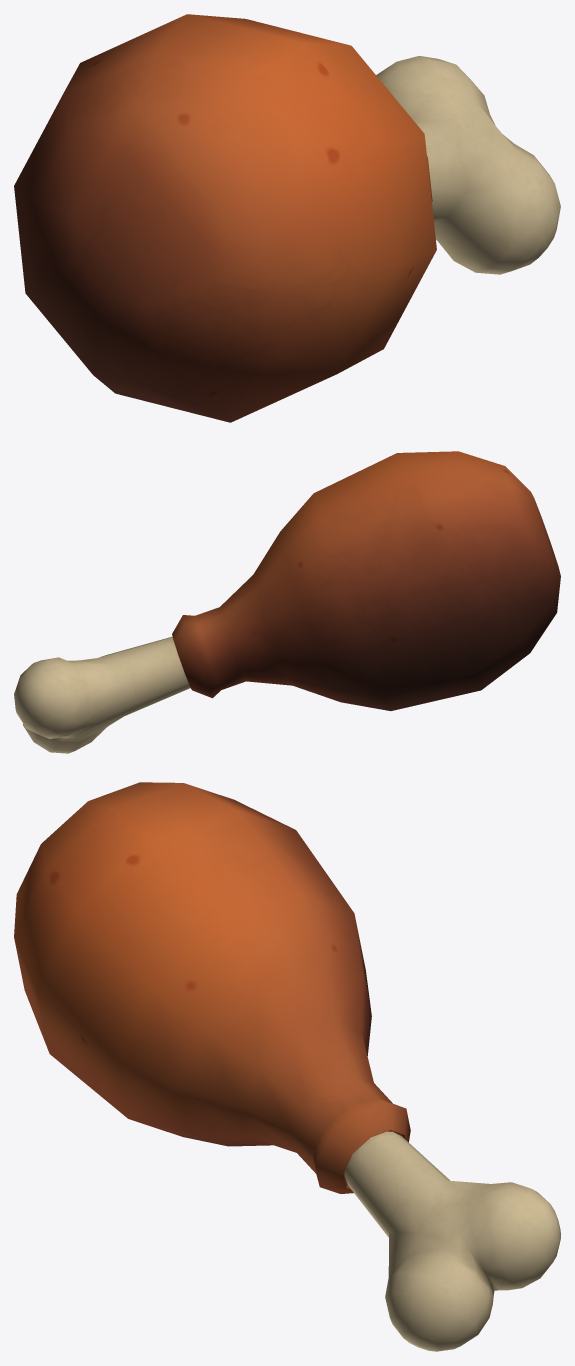
Rendered from chickenleg.glb.
3 renders of one model, top to bottom at view 1: azimuth 30°, elevation 25°; view 2: azimuth 150°, elevation 25°; view 3: azimuth 270°, elevation 25°, orthographic. The views are drawn at different scales.
Parts seen in each view (by area): view 1: ChickenLeg_lambert1_0; view 2: ChickenLeg_lambert1_0; view 3: ChickenLeg_lambert1_0.
Boxes of the visible parts, x1,y1,x2,y2 form: ChickenLeg_lambert1_0: (14, 14, 560, 422); ChickenLeg_lambert1_0: (14, 451, 560, 753); ChickenLeg_lambert1_0: (14, 782, 560, 1351).
Size of the model in its own units: 0.1954 by 0.1242 by 0.1677.
1 material, 1 textured.
